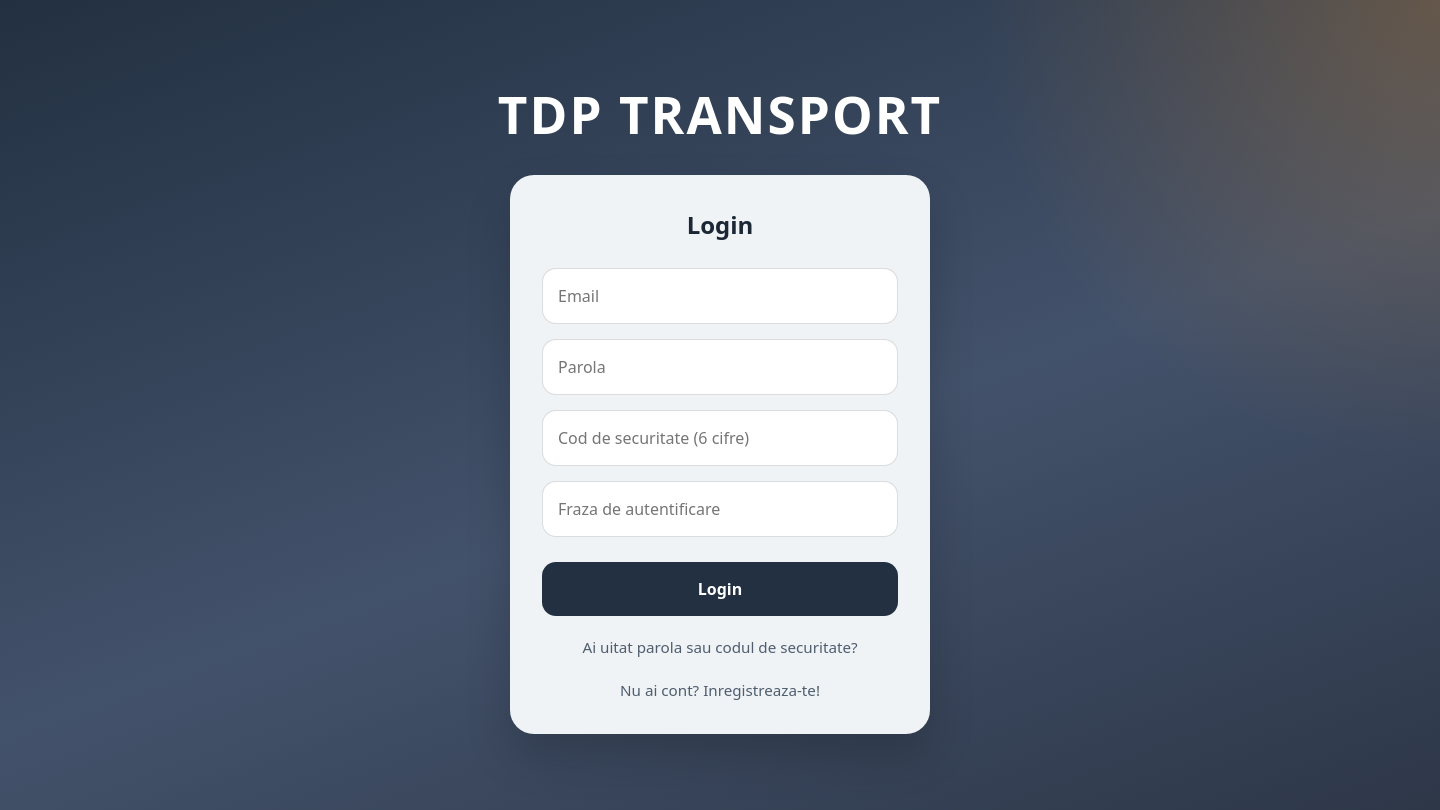
Test case: Login page › submits valid credentials to the auth API and enters the pending state
Type "admin@tdptrans.ro" into the field with placeholder "Email" at (720, 296), box x1=542 y1=268 x2=898 y2=324
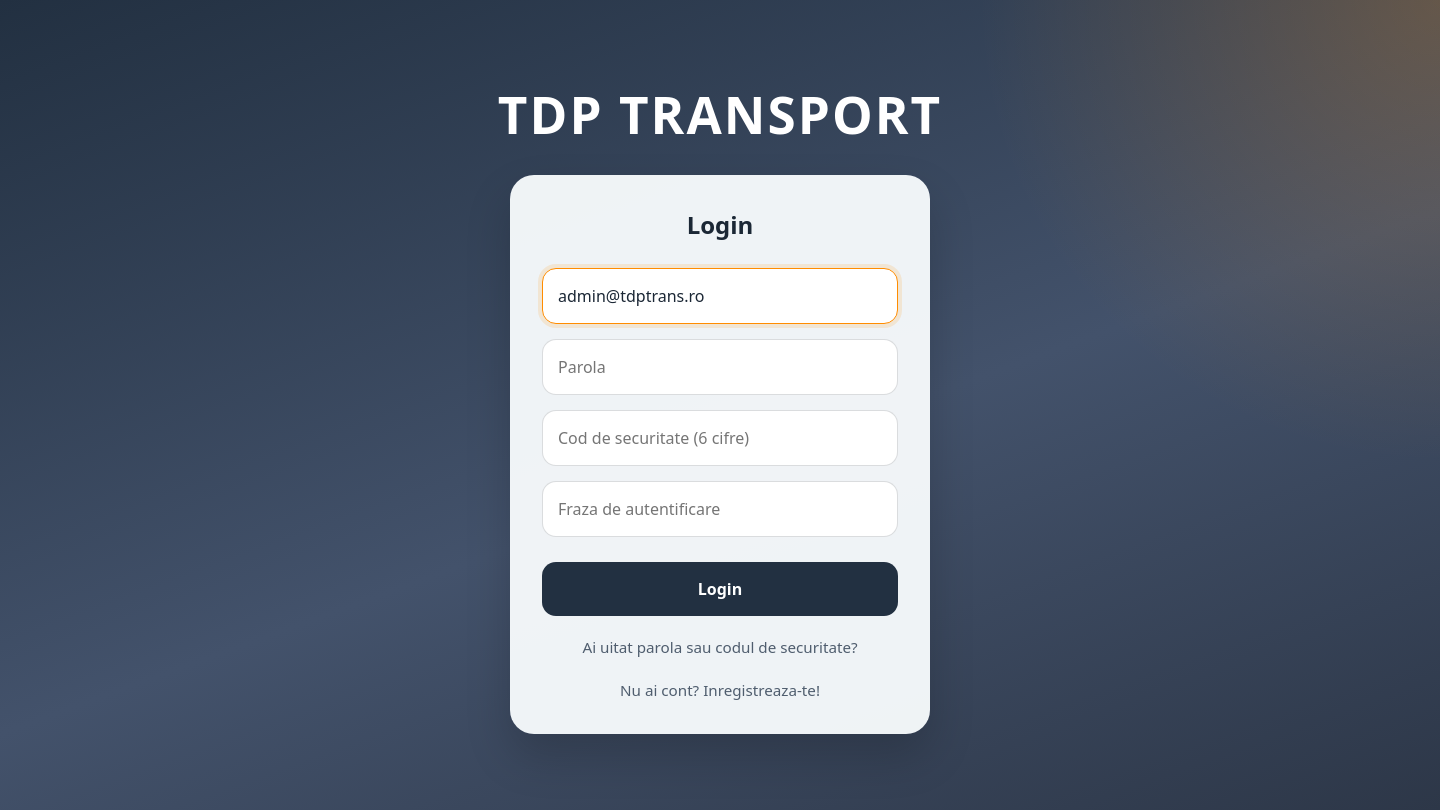
Type "parola_sigura" into the password field with placeholder "Parola" at (720, 367), box x1=542 y1=339 x2=898 y2=395
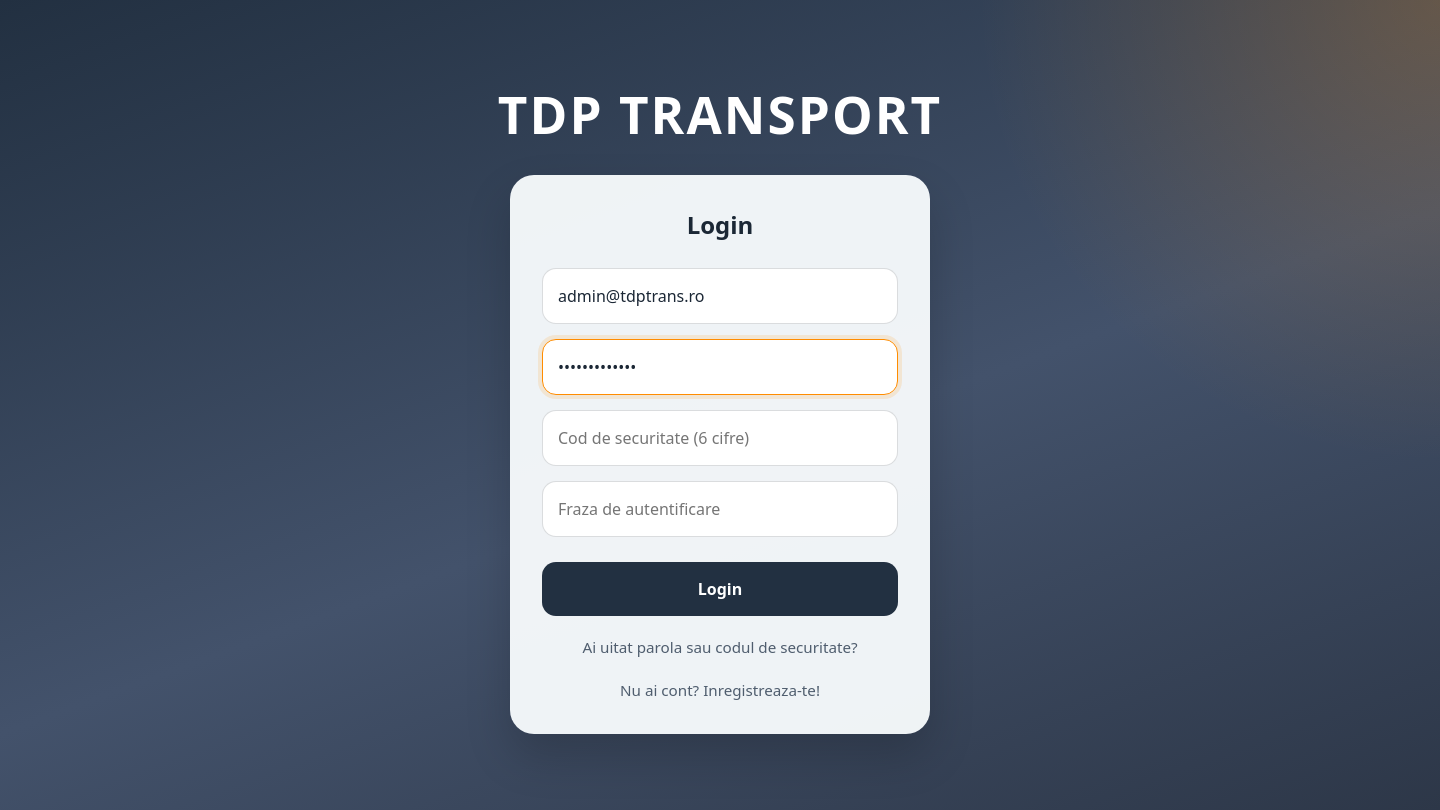
Type "246810" into the password field with placeholder "Cod de securitate (6 cifre)" at (720, 438), box x1=542 y1=410 x2=898 y2=466
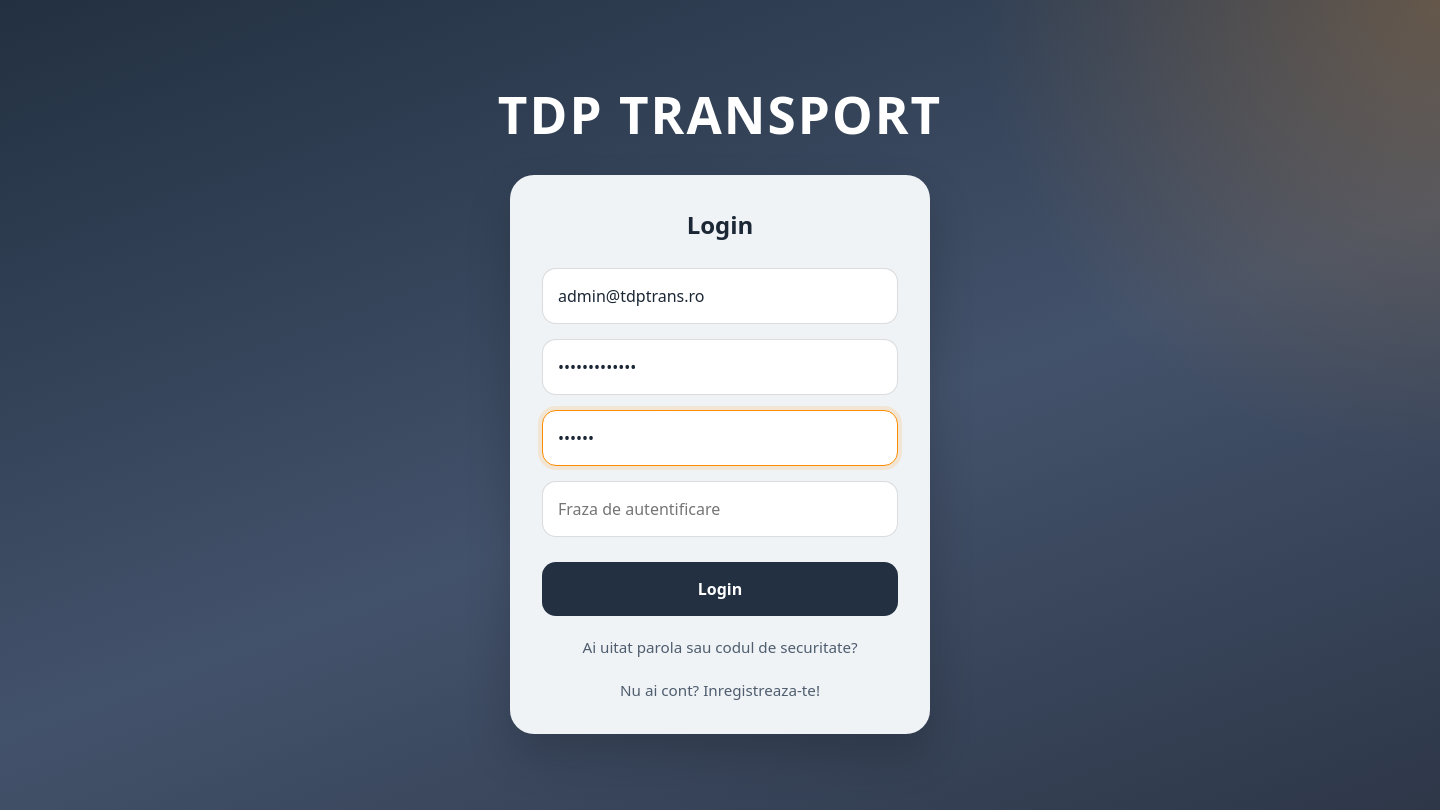
Type "TDP-ADMIN" into the field with placeholder "Fraza de autentificare" at (720, 509), box x1=542 y1=481 x2=898 y2=537
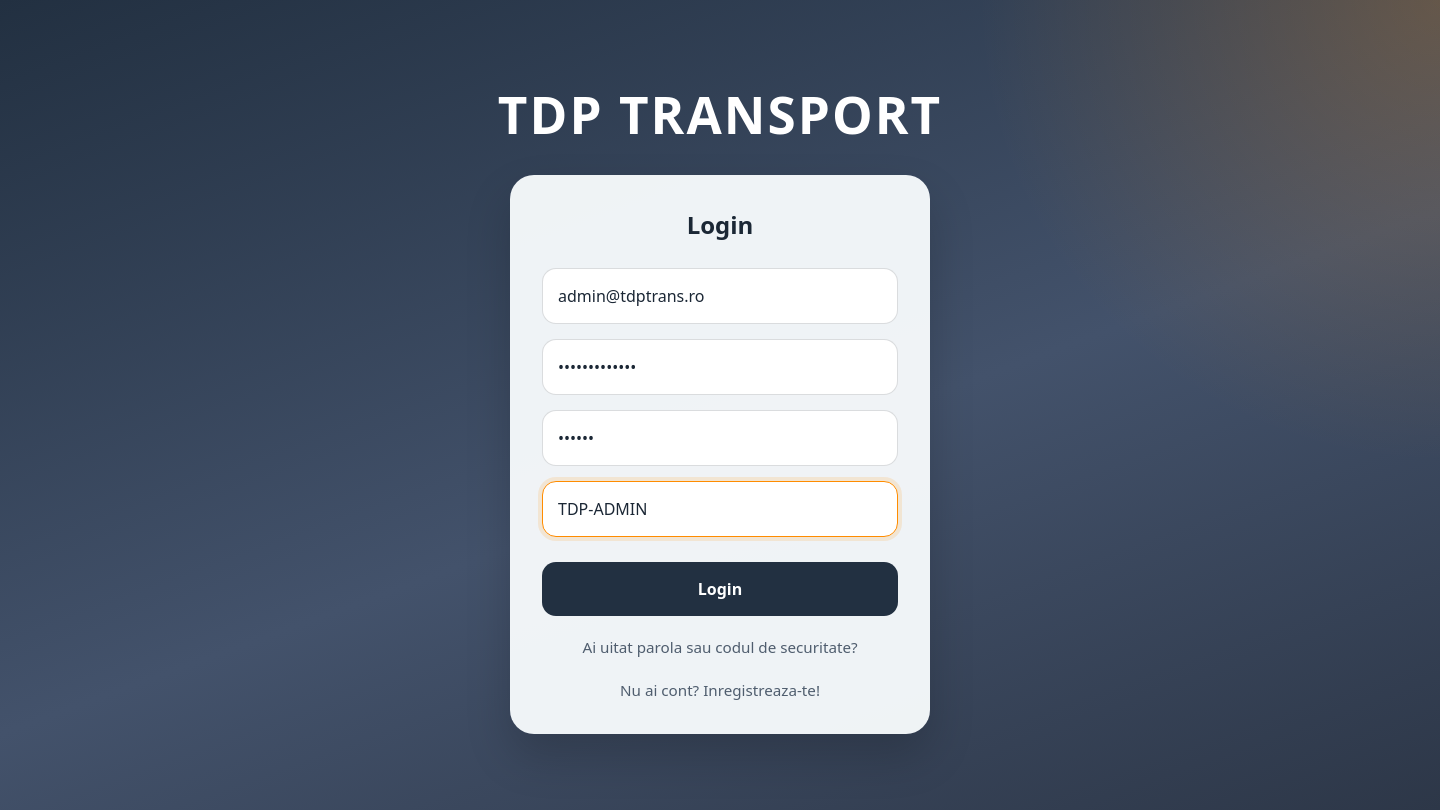
Click the button "Login" at (720, 589), box x1=542 y1=562 x2=898 y2=616
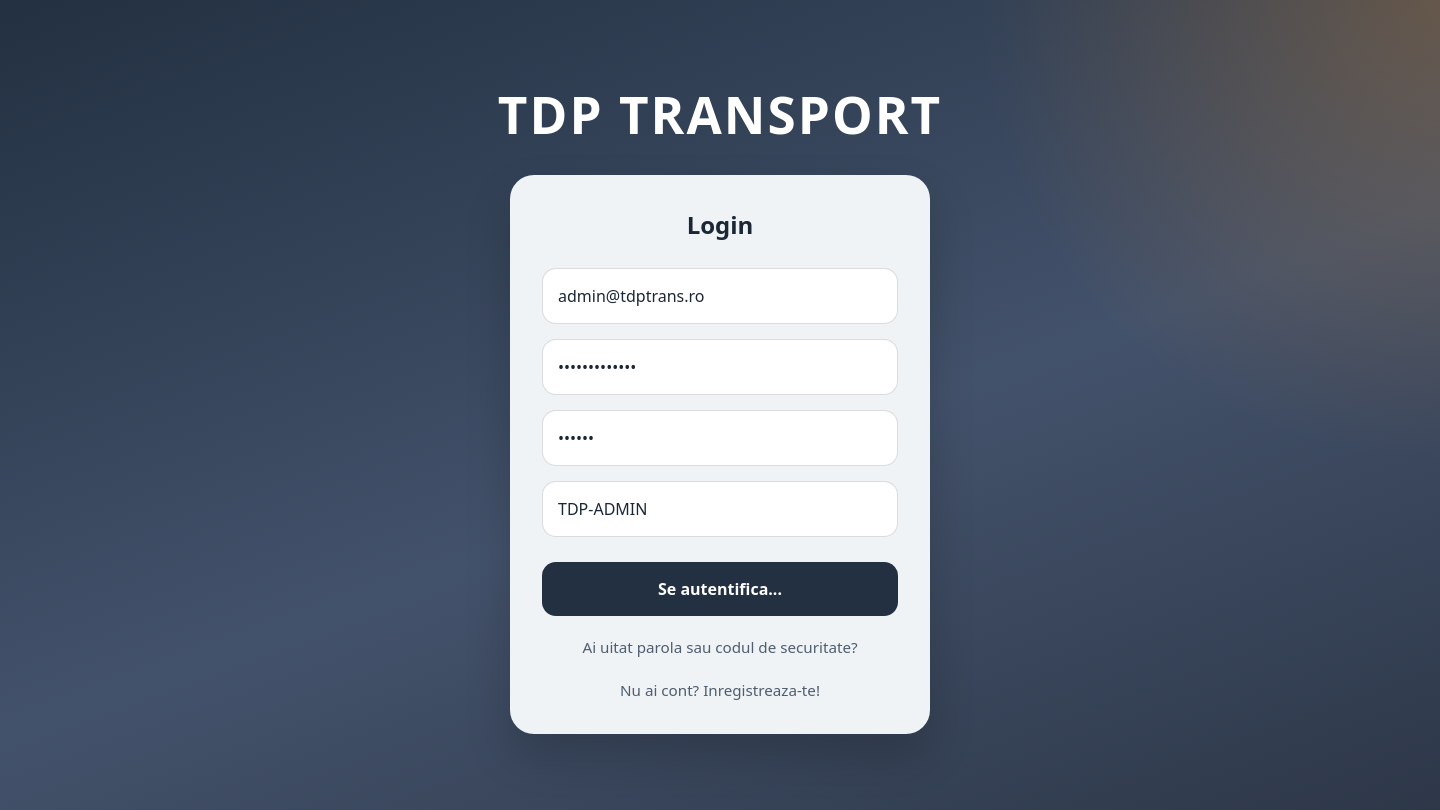
Expected: the button "Se autentifica..." is disabled, x1=542 y1=562 x2=898 y2=616
